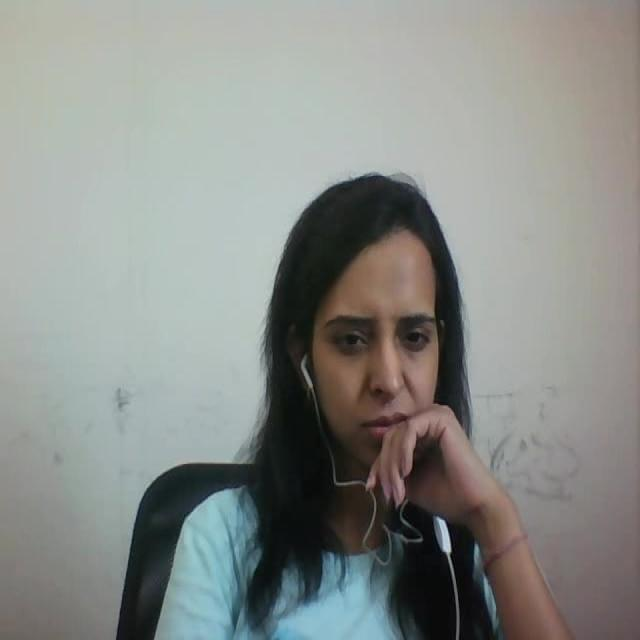Bored: (252, 159, 496, 489)
